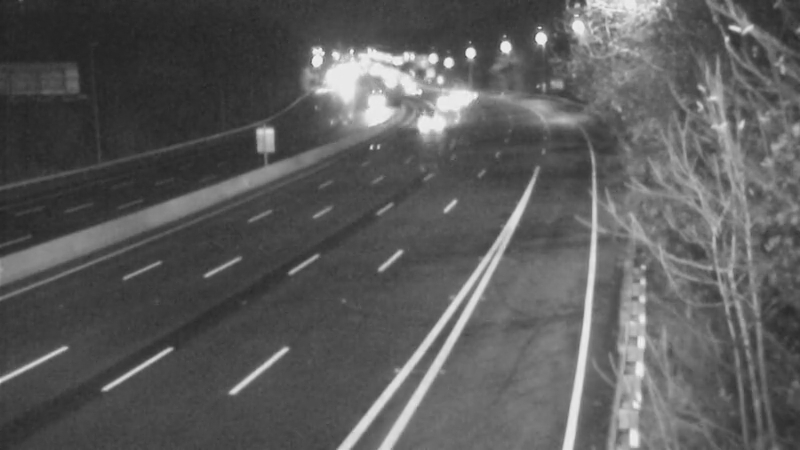vehicle: (447, 71, 497, 121), (423, 80, 473, 130), (407, 99, 457, 149), (351, 77, 401, 127)
